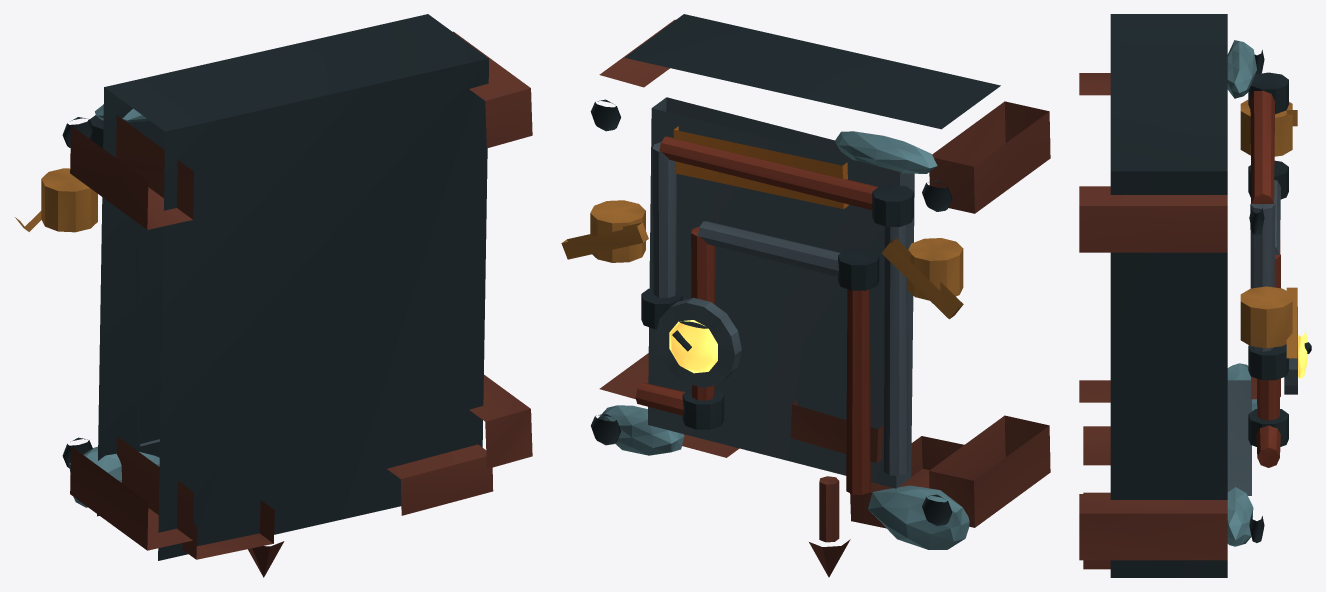
File: furnace_heat_reclaimer.glb
The picture shows the model from 3 angles, left to right: view 1: azimuth 30°, elevation 25°; view 2: azimuth 150°, elevation 25°; view 3: azimuth 270°, elevation 25°; orthographic projection. The views are drawn at different scales.
Parts seen in each view (by area): view 1: FurnaceHeatReclaimer_Mesh; view 2: FurnaceHeatReclaimer_Mesh; view 3: FurnaceHeatReclaimer_Mesh.
Part boxes in pixels (x1=…): FurnaceHeatReclaimer_Mesh: x1=15, y1=14, x2=532, y2=577; FurnaceHeatReclaimer_Mesh: x1=561, y1=14, x2=1050, y2=577; FurnaceHeatReclaimer_Mesh: x1=1079, y1=14, x2=1311, y2=577.
Bounding box in the file's own units: 1.15 × 1.38 × 0.595.
